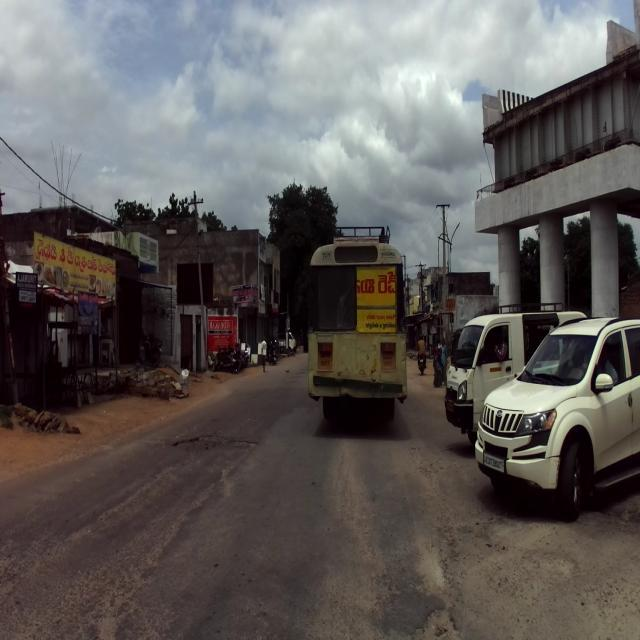Pothole: (1, 529, 240, 640), (382, 525, 477, 640), (158, 407, 260, 504), (59, 440, 148, 522)
